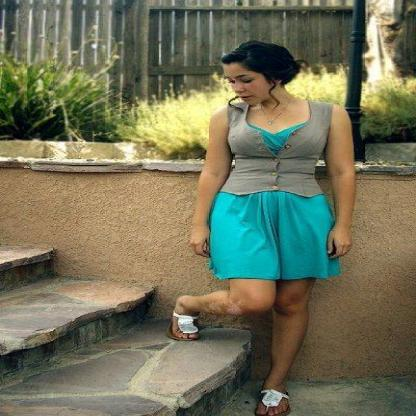dress: (208, 127, 339, 280)
shirt: (220, 97, 333, 197)
shoe: (173, 310, 286, 407)
